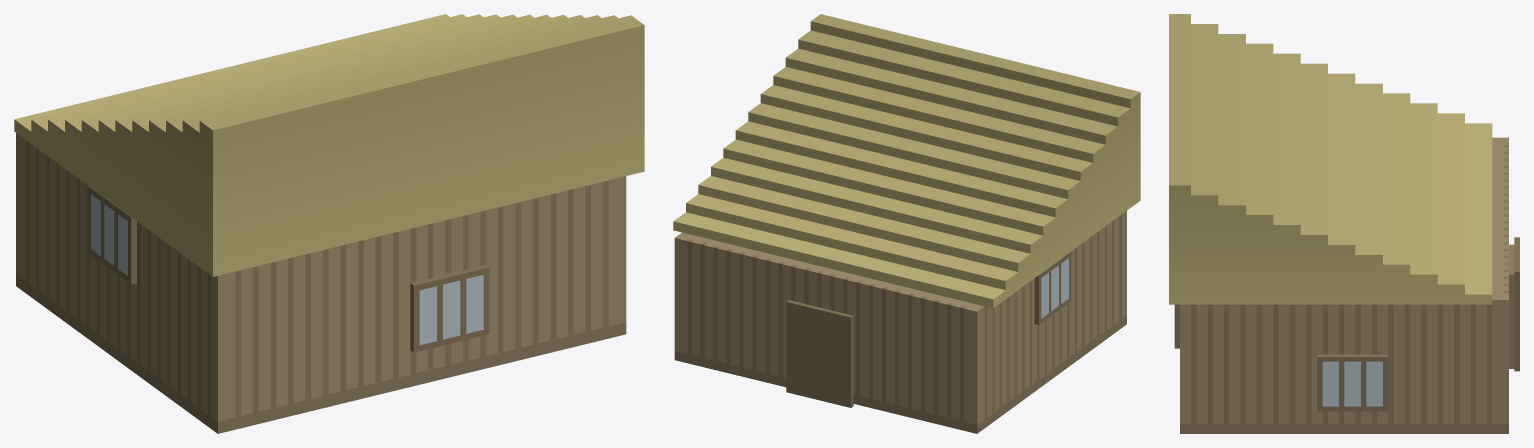
File: cabana_apicultor_04.glb
3 renders of one model, left to right at view 1: azimuth 30°, elevation 25°; view 2: azimuth 150°, elevation 25°; view 3: azimuth 270°, elevation 25°, orthographic. The views are drawn at different scales.
Parts seen in each view (by area): view 1: cabana_apicultor_04; view 2: cabana_apicultor_04; view 3: cabana_apicultor_04.
Boxes of the visible parts, box(x1,y1,x2,y2) form: cabana_apicultor_04: box(14, 14, 644, 433); cabana_apicultor_04: box(673, 14, 1140, 433); cabana_apicultor_04: box(1169, 14, 1519, 433).
Size of the model in its own units: 7.4 by 5.1 by 6.4.
